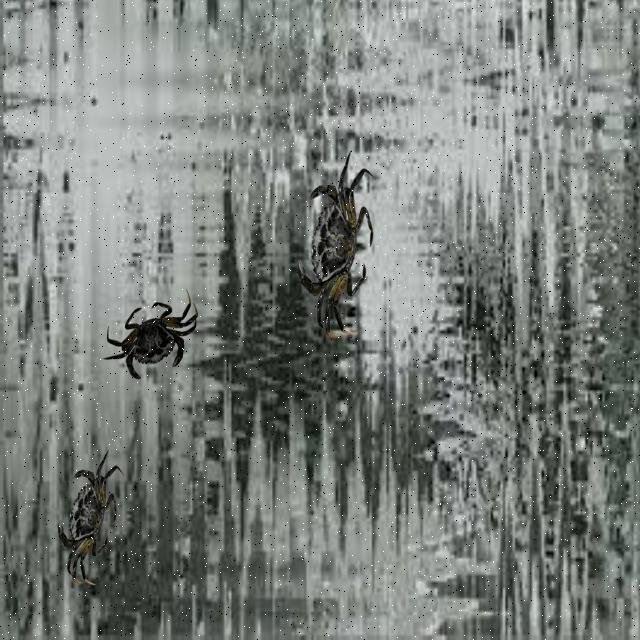European_Green_Crab: (284, 142, 388, 347), (44, 444, 126, 596), (98, 285, 204, 392)
